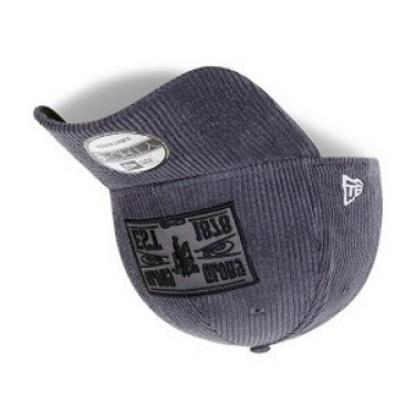cap: (26, 63, 390, 359)
